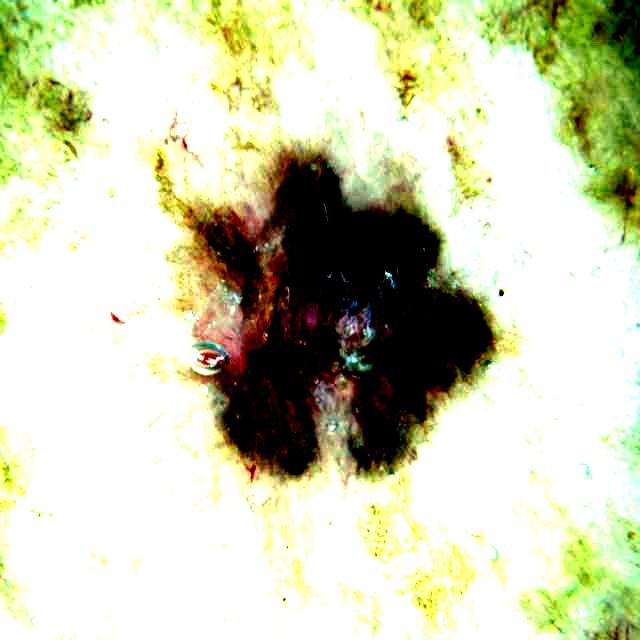AKIEC: (156, 110, 492, 481)
